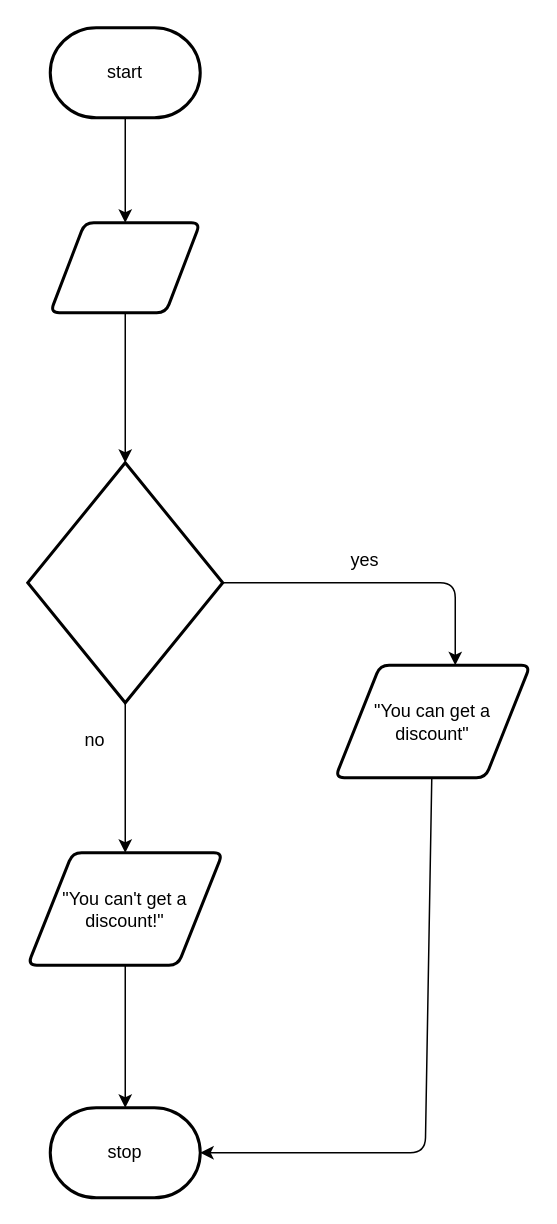
Image size: 557x1224. Some labels were removed from this diagram. The centre of each missing label's shape, as x and y in pixels:
"if (day == Thursday || day == Tuesday) || (age > 12 && age < 21)" belongs at point 125,582.
"insert age and day of the week" belongs at point 124,267.
